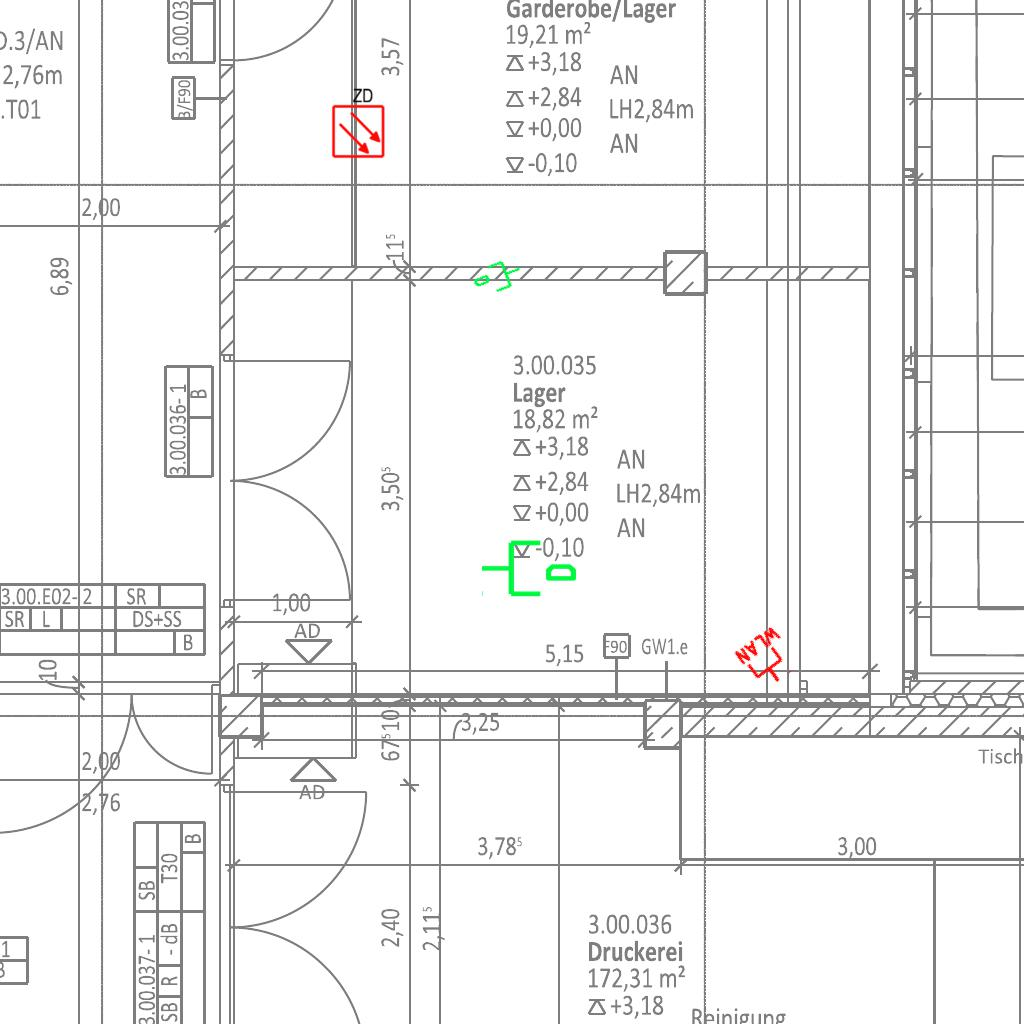Datenanschluss_einfach: (479, 532, 579, 601), (468, 253, 528, 303)
WLAN: (731, 622, 805, 696)
ZD_Melder_in_Zwischendecke_mit_Revisionsoeffnung_mind_40_x_40_cm: (329, 85, 386, 159)
